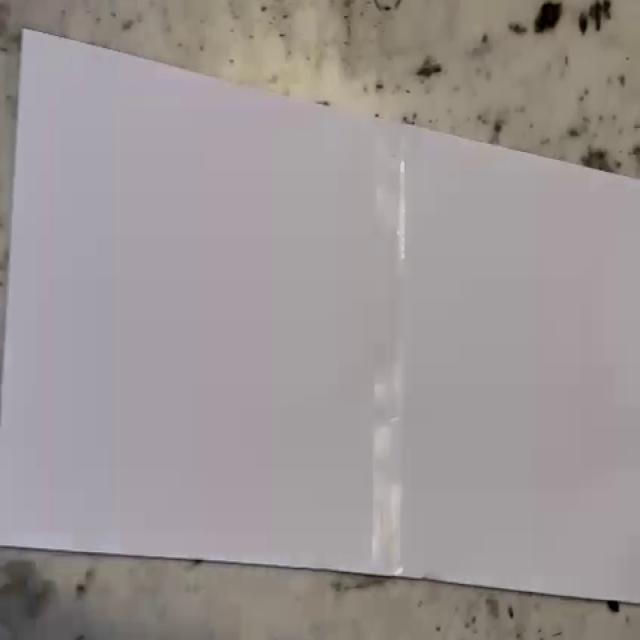road: (0, 28, 640, 604)
